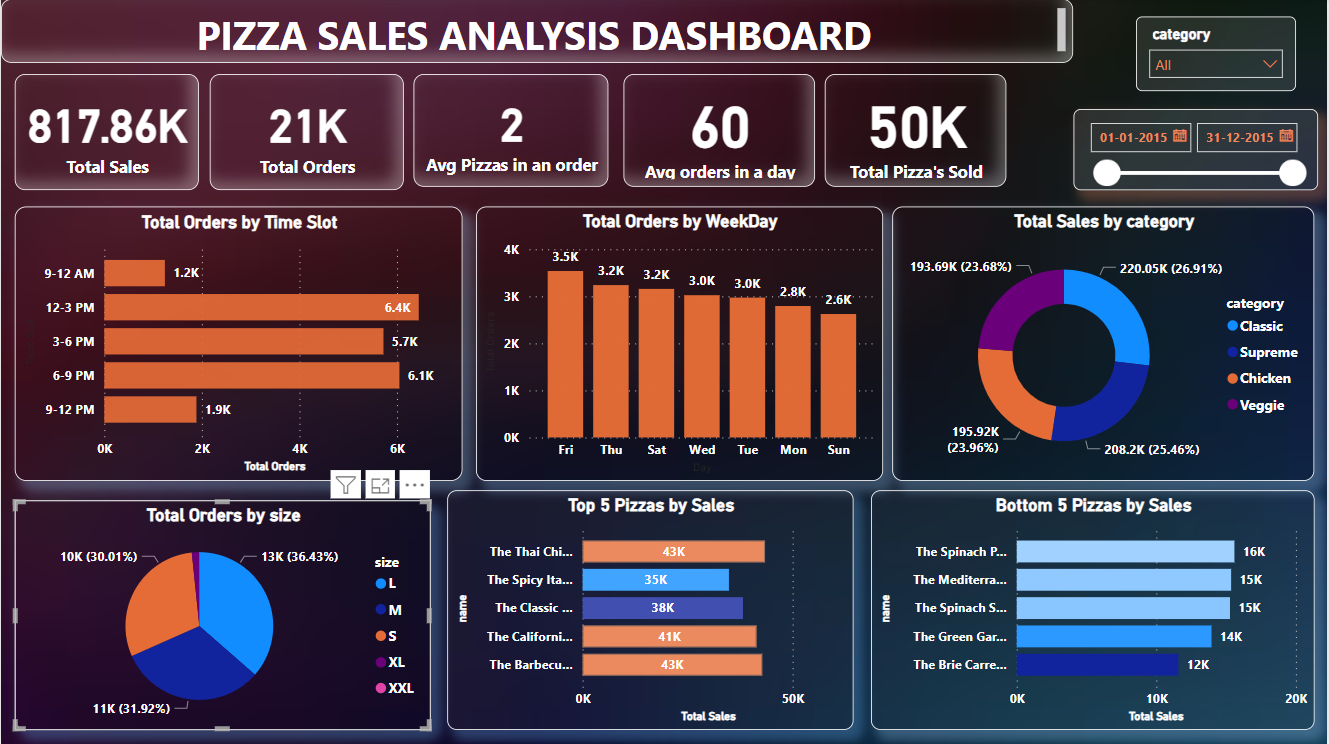

The page's visual inventory and layout, read from the dashboard file:
{"tool":"powerbi","page":{"name":"Page 1","canvas":[1280,720],"ordinal":0},"visuals":[{"type":"textbox","box":[0,0,1034.8,61.5],"z":0},{"type":"card","fields":{"Values":["All measures.Total Sales"]},"box":[13.3,72.4,177.3,112.2],"z":1000},{"type":"card","fields":{"Values":["All measures.Total Orders"]},"box":[201.4,72.4,186.9,112.2],"z":2000},{"type":"card","fields":{"Values":["All measures.Avg Pizzas in an order"]},"box":[398,72.4,188.1,108.5],"z":3000},{"type":"card","fields":{"Values":["All measures.Avg orders in a day"]},"box":[600.6,72.4,184.5,108.5],"z":4000},{"type":"card","fields":{"Values":["All measures.Total Pizza's Sold"]},"box":[794.8,72.4,174.9,108.5],"z":5000},{"type":"barChart","fields":{"Category":["orders.Time Slot"],"Y":["All measures.Total Orders"]},"box":[13.7,200.3,432.2,264.8],"z":6000},{"type":"clusteredColumnChart","title":"Total Orders by WeekDay","fields":{"Y":["All measures.Total Orders"],"Category":["Date Table.Day"]},"box":[458.3,200.3,392.5,264.8],"z":7000},{"type":"donutChart","fields":{"Y":["All measures.Total Sales"],"Category":["pizza_types.category"]},"box":[860.4,200.3,407.5,264.8],"z":8000},{"type":"pieChart","fields":{"Y":["All measures.Total Orders"],"Category":["pizzas.size"]},"box":[13.3,483.6,401.6,221.9],"z":9000},{"type":"barChart","title":"Top 5 Pizzas by Sales","fields":{"Category":["pizza_types.name"],"Y":["All measures.Total Sales"],"Series":["pizza_types.category"]},"box":[430.6,474,392,231.6],"z":10000},{"type":"barChart","title":"Bottom 5 Pizzas by Sales","fields":{"Y":["All measures.Total Sales"],"Category":["pizza_types.name"]},"box":[839.4,474,428.1,231.6],"z":11000},{"type":"slicer","fields":{"Values":["pizza_types.category"]},"box":[1095.1,16.9,154.4,72.4],"z":12000},{"type":"slicer","fields":{"Values":["Date Table.Date"]},"box":[1034.8,106.1,236.4,78.4],"z":13000}]}

Visuals, with their boxes in screenshot pixels (x1, y1, x2, y2), scaled from the page's 1280x720 canvas onto the 1329x744 screenshot:
textbox: rect(0, 0, 1074, 64)
card - All measures.Total Sales: rect(14, 75, 198, 191)
card - All measures.Total Orders: rect(209, 75, 403, 191)
card - All measures.Avg Pizzas in an order: rect(413, 75, 609, 187)
card - All measures.Avg orders in a day: rect(624, 75, 815, 187)
card - All measures.Total Pizza's Sold: rect(825, 75, 1007, 187)
barChart - orders.Time Slot x All measures.Total Orders: rect(14, 207, 463, 481)
"Total Orders by WeekDay" clusteredColumnChart: rect(476, 207, 883, 481)
donutChart - All measures.Total Sales x pizza_types.category: rect(893, 207, 1316, 481)
pieChart - All measures.Total Orders x pizzas.size: rect(14, 500, 431, 729)
"Top 5 Pizzas by Sales" barChart: rect(447, 490, 854, 729)
"Bottom 5 Pizzas by Sales" barChart: rect(872, 490, 1316, 729)
slicer - pizza_types.category: rect(1137, 17, 1297, 92)
slicer - Date Table.Date: rect(1074, 110, 1320, 191)
